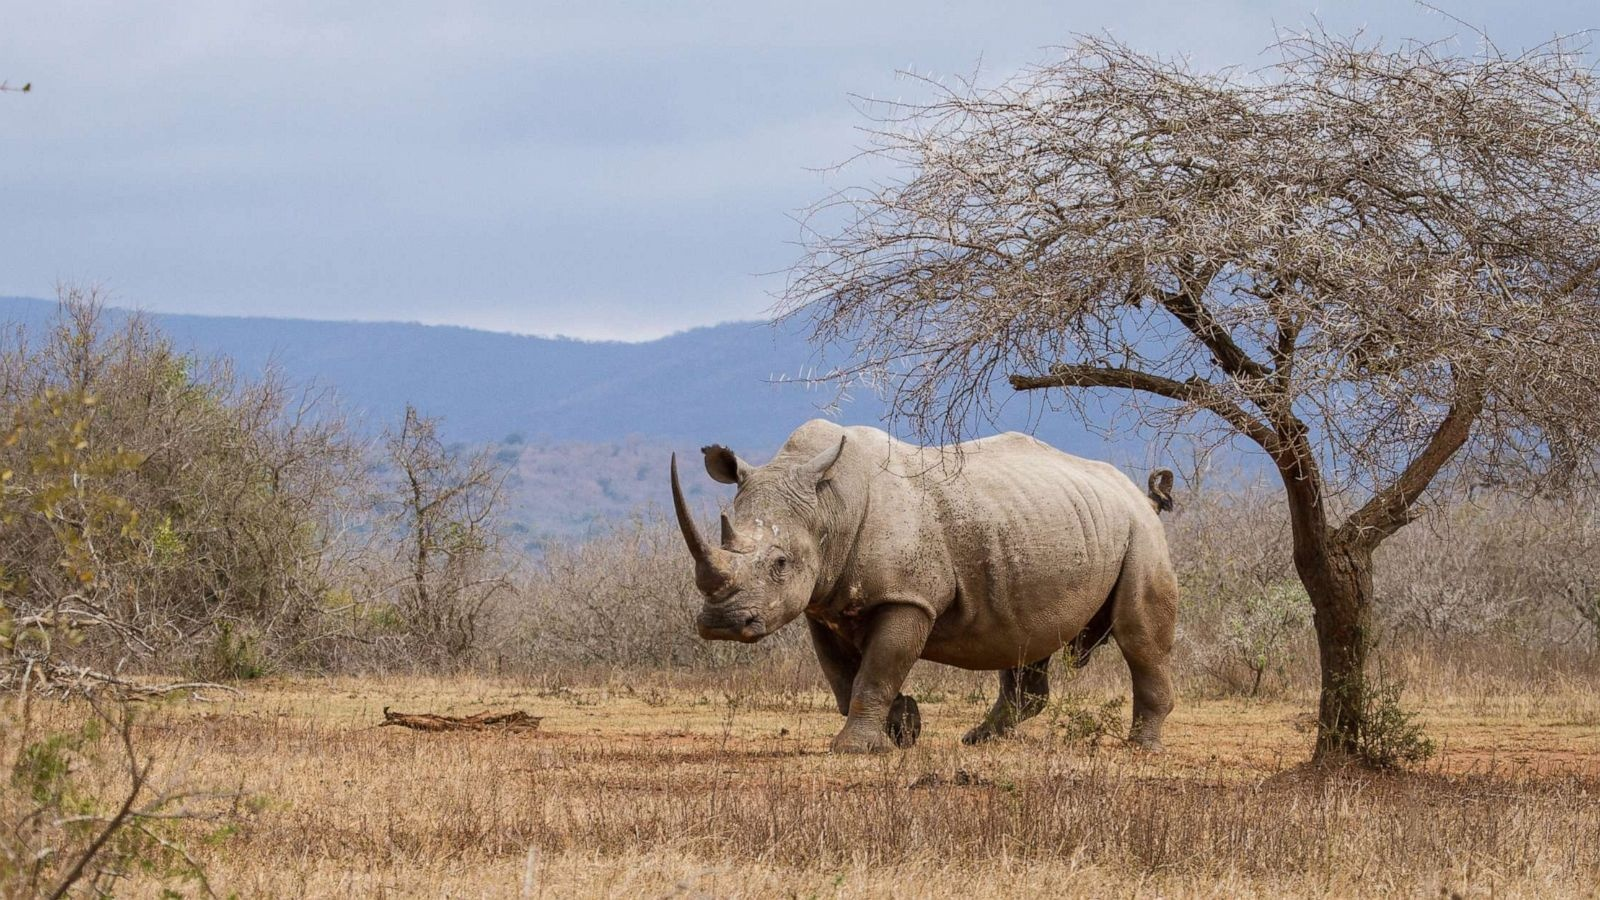rhino: (927, 588, 1454, 900)
